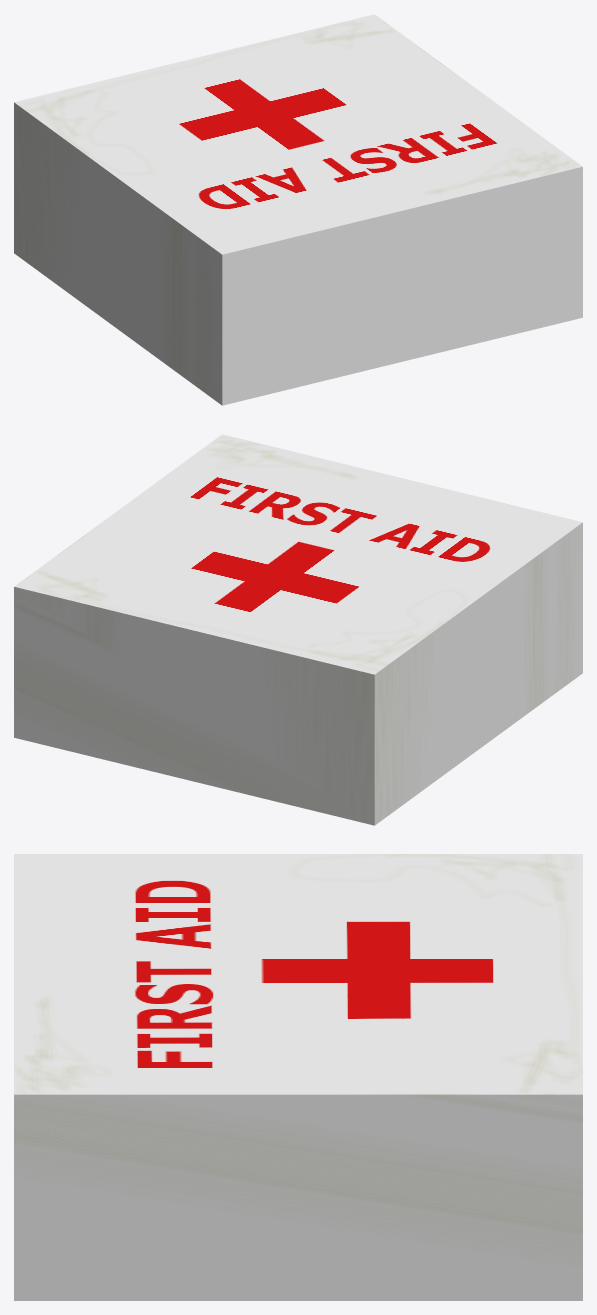
File: keypad.fbx
The picture shows the model from 3 angles, top to bottom: view 1: azimuth 30°, elevation 25°; view 2: azimuth 150°, elevation 25°; view 3: azimuth 270°, elevation 25°; orthographic projection. The views are drawn at different scales.
Parts seen in each view (by area): view 1: FirstAid; view 2: FirstAid; view 3: FirstAid.
Boxes of the visible parts, x1,y1,x2,y2 form: FirstAid: [14, 14, 582, 405]; FirstAid: [14, 434, 582, 825]; FirstAid: [14, 854, 582, 1300].
Size of the model in its own units: 20 by 8 by 20.
